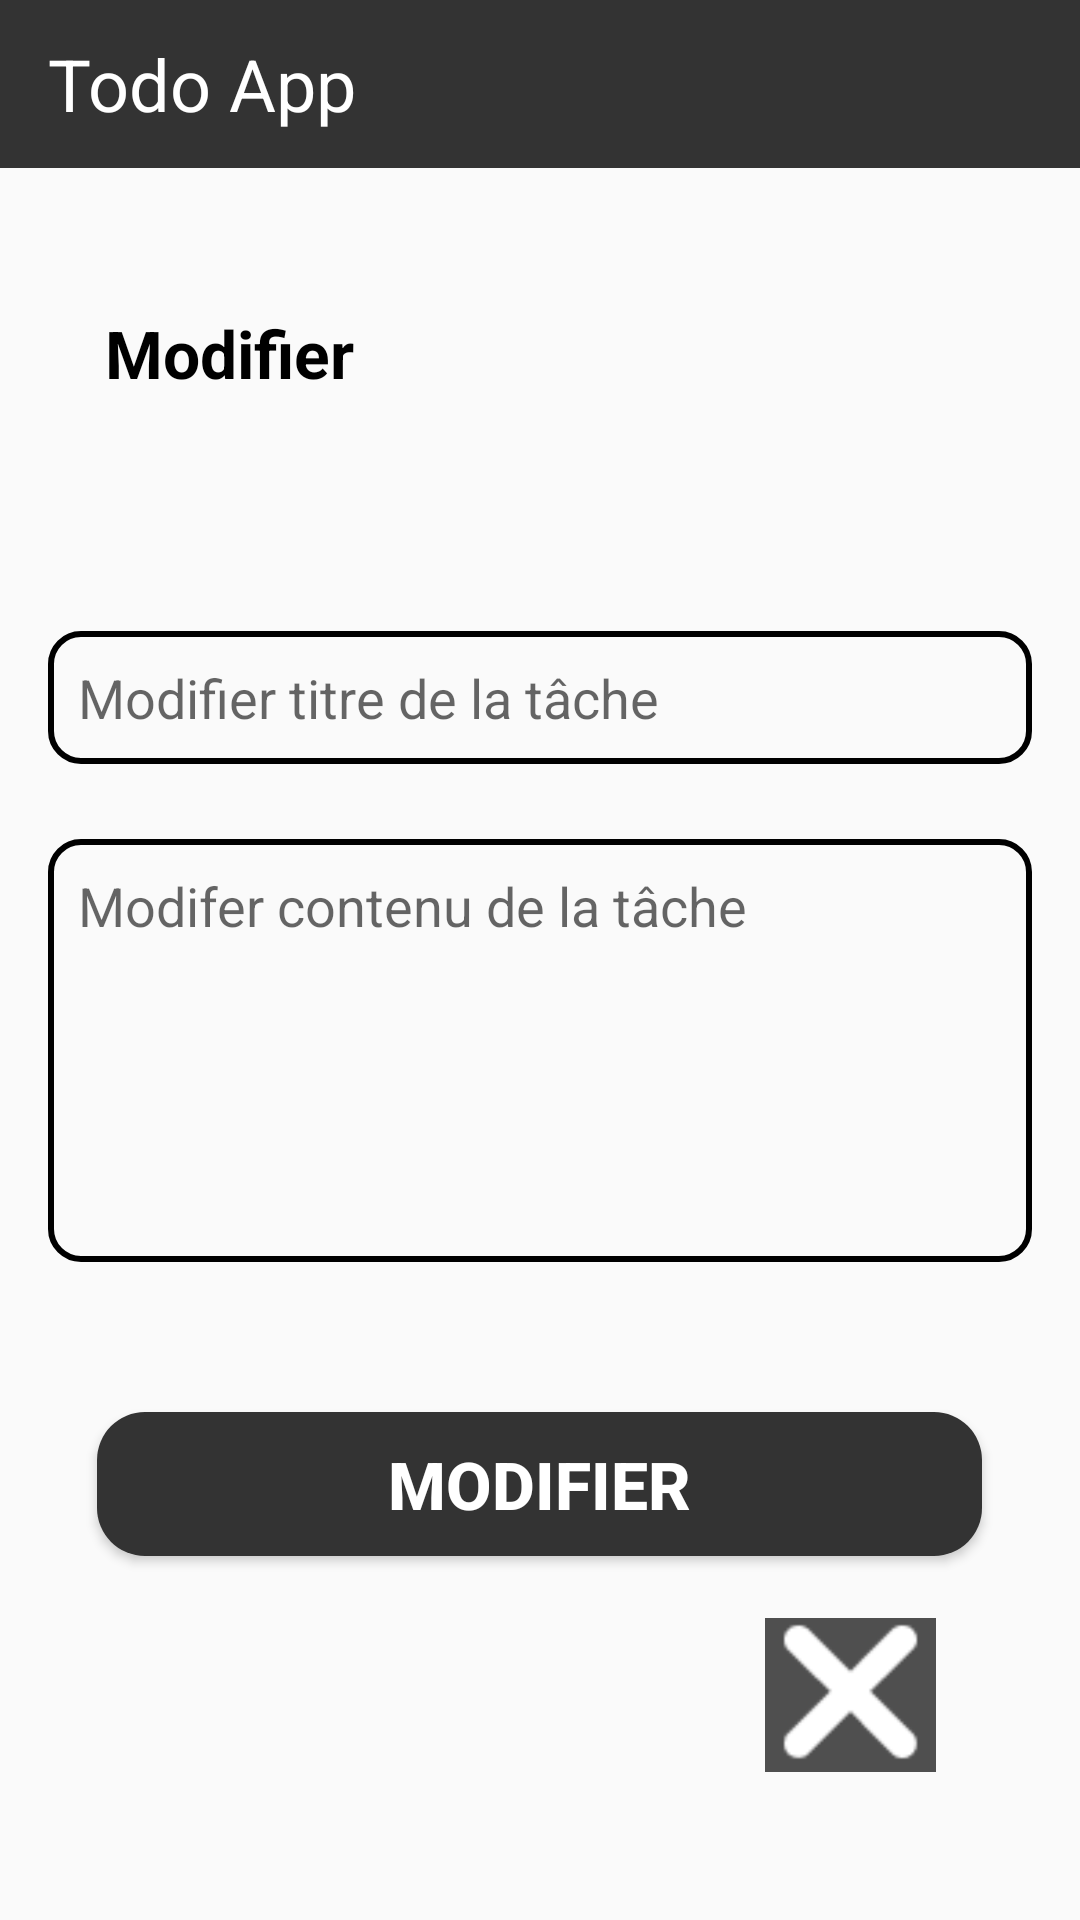

Point at icon controls on the screen. Image size 1080px x 1920px, points as point (x, y).
croix: point (850, 1695)
